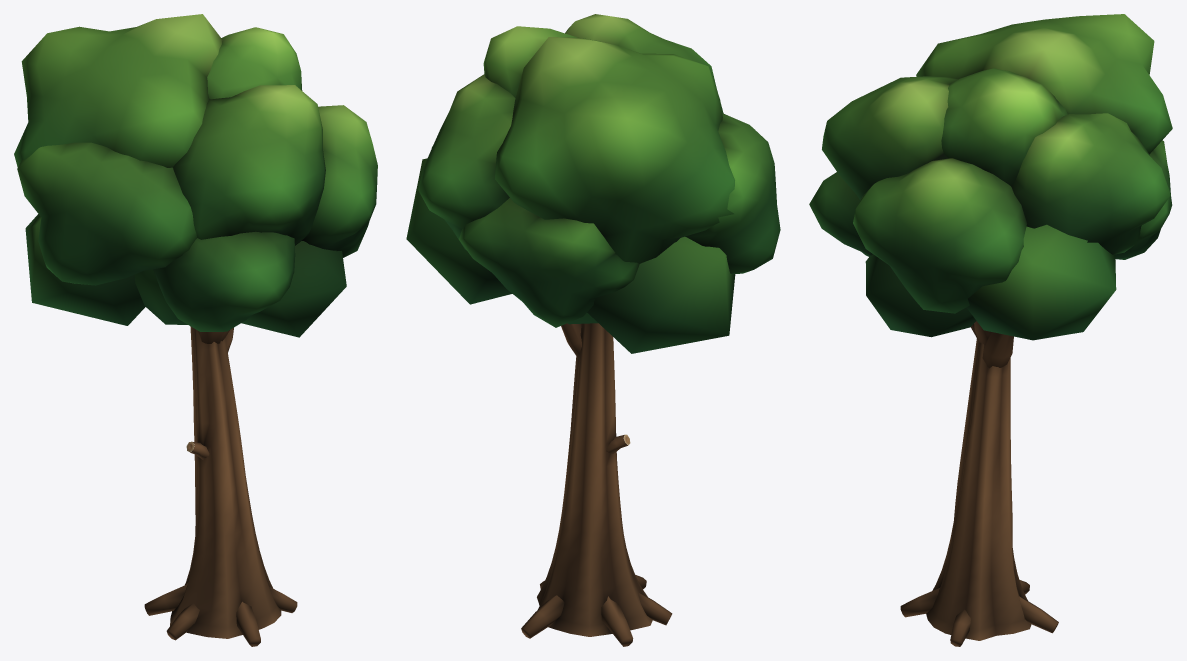
Rendered from tree-standing-b-v1.glb.
The picture shows the model from 3 angles, left to right: view 1: azimuth 30°, elevation 25°; view 2: azimuth 150°, elevation 25°; view 3: azimuth 270°, elevation 25°; orthographic projection. The views are drawn at different scales.
Parts seen in each view (by area): view 1: 1_leaves, 0_trunk; view 2: 1_leaves, 0_trunk; view 3: 1_leaves, 0_trunk.
Boxes of the visible parts, <box> form: 1_leaves: <box>14,14,377,337</box>; 0_trunk: <box>144,326,297,646</box>; 1_leaves: <box>406,14,780,353</box>; 0_trunk: <box>521,323,672,646</box>; 1_leaves: <box>809,14,1172,340</box>; 0_trunk: <box>900,321,1058,646</box>.
Bounding box in the file's own units: 4.02 × 6.97 × 3.99.
